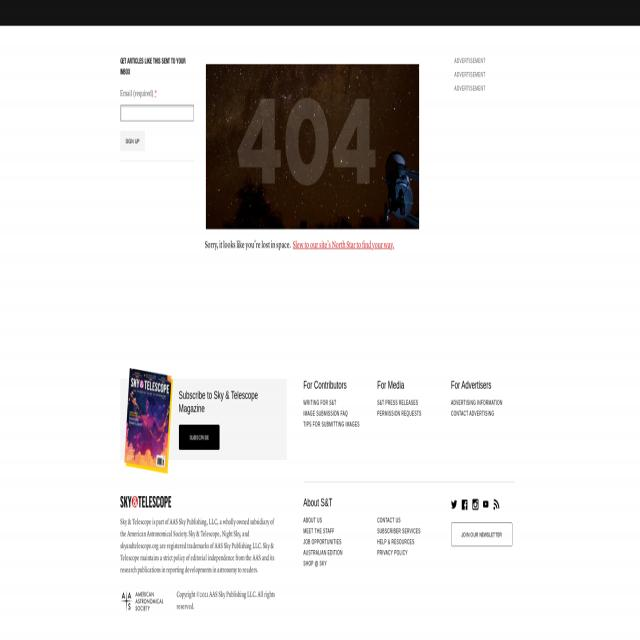button: (206, 64, 419, 229), (124, 368, 166, 463), (451, 522, 513, 546), (120, 586, 163, 616), (178, 424, 220, 450), (120, 496, 171, 507), (120, 131, 145, 151), (472, 499, 478, 510), (493, 499, 499, 510), (462, 500, 468, 510), (451, 501, 457, 508), (483, 501, 489, 508)
field: (120, 105, 194, 121)
